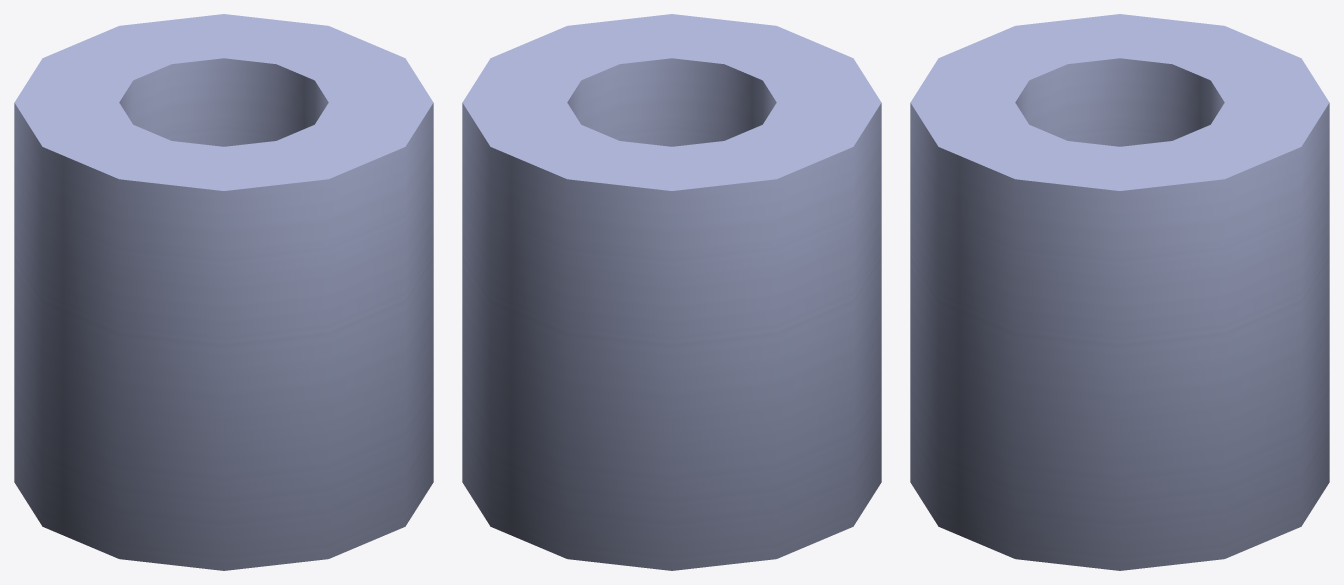
The model's file is shape-hollow-cylinder.fbx.
The picture shows the model from 3 angles, left to right: view 1: azimuth 30°, elevation 25°; view 2: azimuth 150°, elevation 25°; view 3: azimuth 270°, elevation 25°; orthographic projection.
Parts seen in each view (by area): view 1: shape-hollow-cylinder; view 2: shape-hollow-cylinder; view 3: shape-hollow-cylinder.
Boxes of the visible parts, bbox=[...] form: shape-hollow-cylinder: bbox=[14, 14, 433, 570]; shape-hollow-cylinder: bbox=[462, 14, 881, 570]; shape-hollow-cylinder: bbox=[910, 14, 1329, 570].
Bounding box in the file's own units: 100 × 100 × 100.
